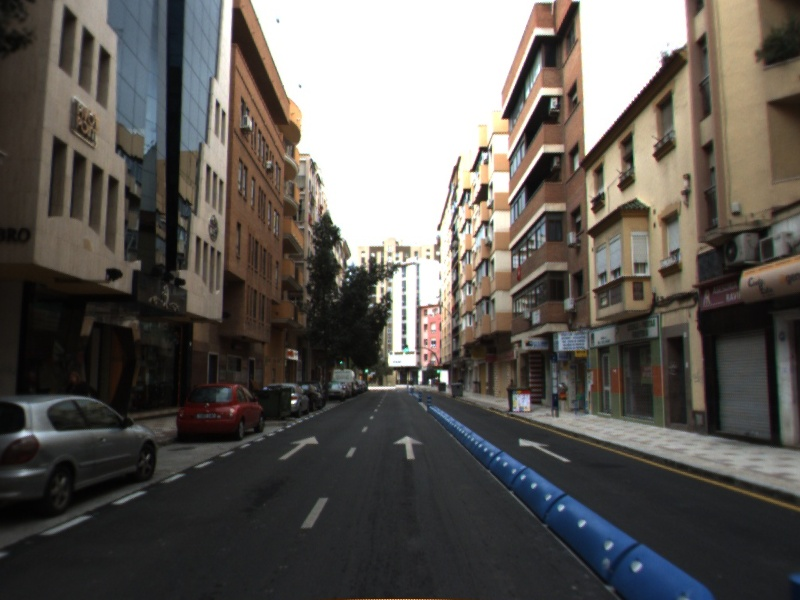STRAIGHT: (518, 437, 572, 464), (277, 434, 320, 461), (392, 434, 425, 461)
